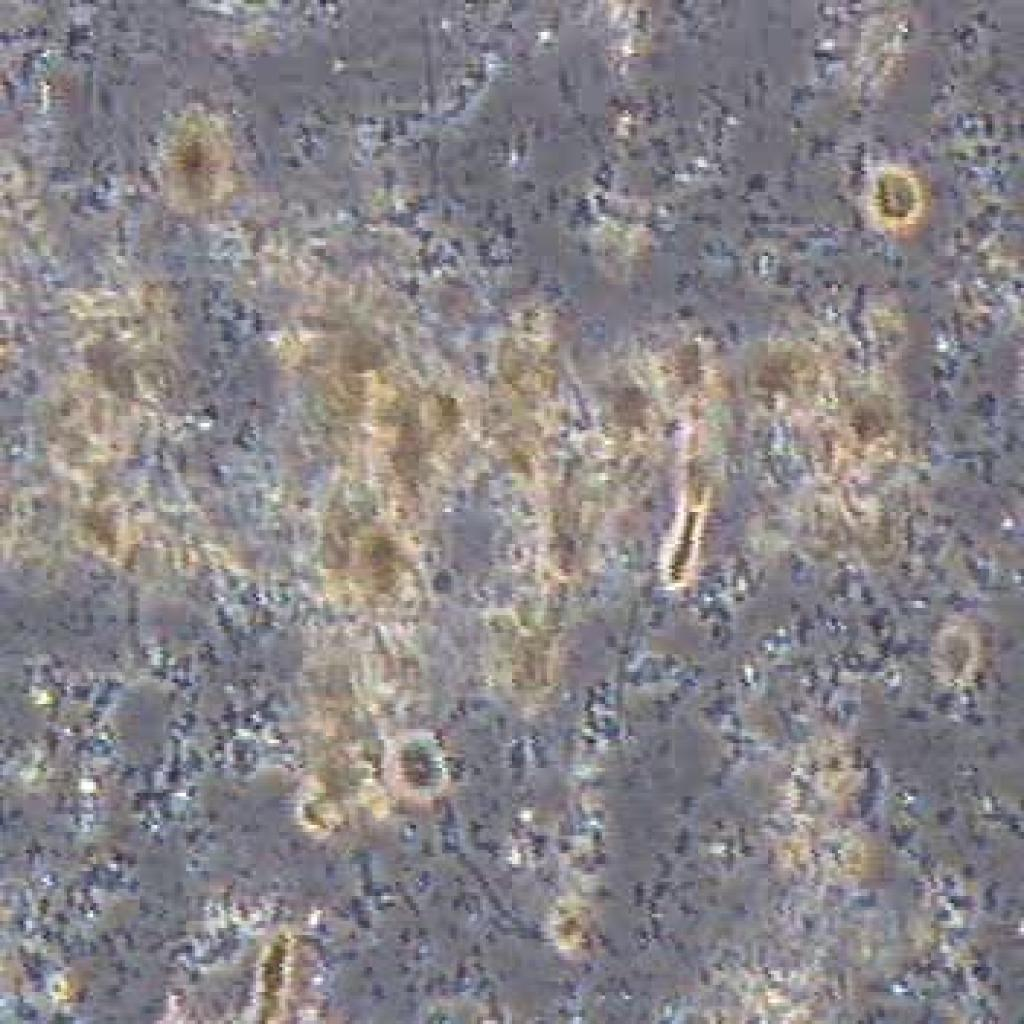Chaetonotus: (652, 482, 724, 620)
